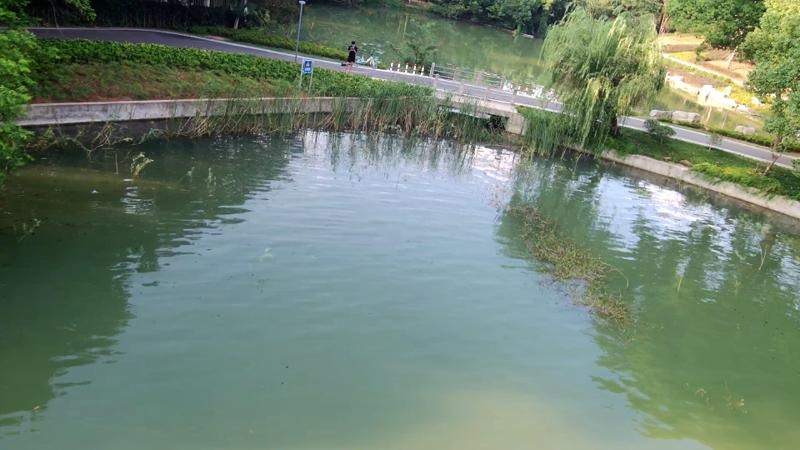passerby: (340, 40, 358, 76)
